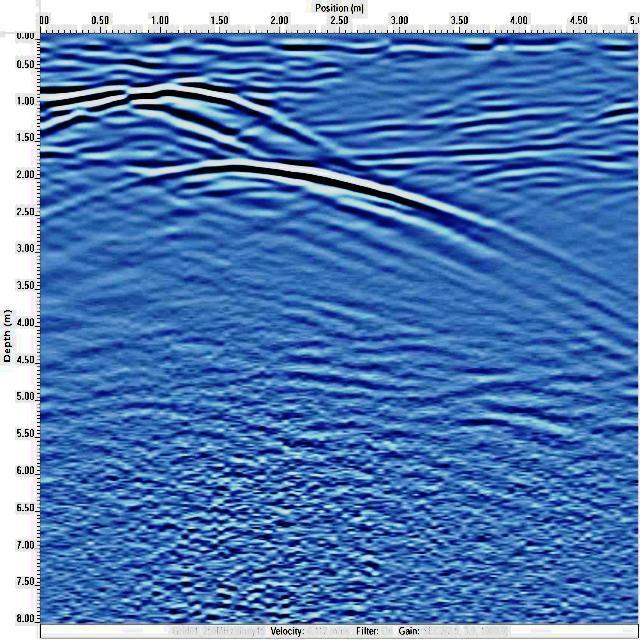hyperbola: (64, 141, 512, 288), (52, 67, 330, 164)
